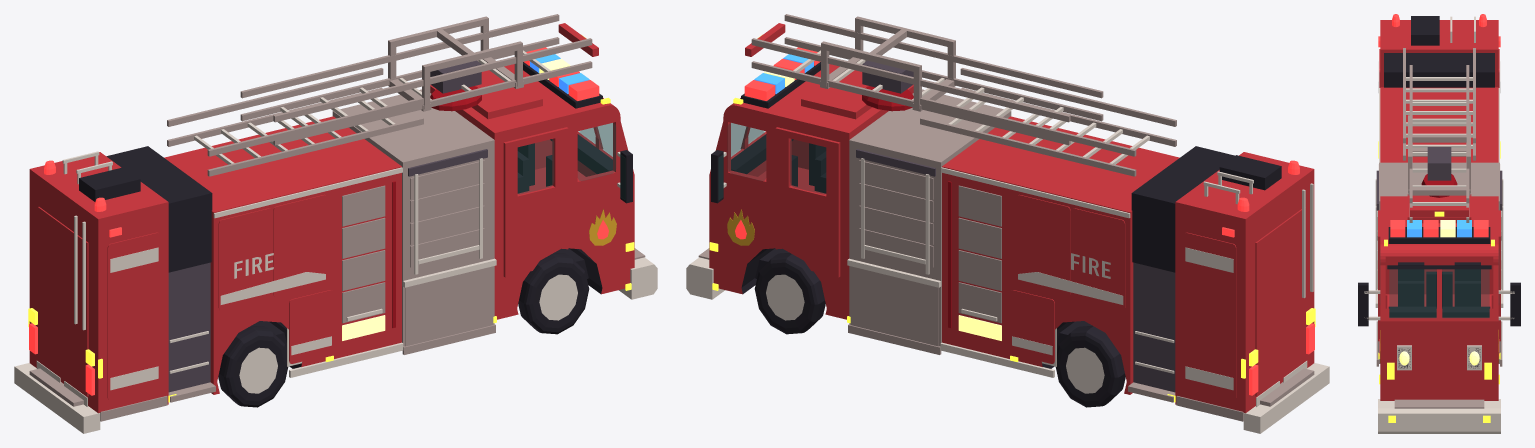
3 renders of one model, left to right at view 1: azimuth 30°, elevation 25°; view 2: azimuth 150°, elevation 25°; view 3: azimuth 270°, elevation 25°, orthographic. The views are drawn at different scales.
Parts seen in each view (by area): view 1: equipment_body_pal_survivorRed, rear_compartment_pal_survivorRed, shutter_housing_pal_sidewalk, ladder_pal_sidewalk, crew_cab_pal_survivorRed, doorL_pal_survivorRed, pump_bay_pal_uiDark, equipment_body_pal_sidewalk, pump_bay_pal_asphalt, equipment_body_pal_picketWhite, crew_cab_pal_uiDark, wheelRL_pal_uiDark (+17 smaller); view 2: equipment_body_pal_survivorRed, rear_compartment_pal_survivorRed, shutter_housing_pal_sidewalk, ladder_pal_sidewalk, crew_cab_pal_survivorRed, doorR_pal_survivorRed, pump_bay_pal_uiDark, equipment_body_pal_sidewalk, pump_bay_pal_asphalt, equipment_body_pal_picketWhite, crew_cab_pal_uiDark, rear_compartment_pal_picketWhite (+16 smaller); view 3: crew_cab_pal_survivorRed, crew_cab_pal_uiDark, equipment_body_pal_survivorRed, crew_cab_pal_backpackTeal, rear_compartment_pal_survivorRed, body_pal_picketWhite, pump_bay_pal_uiDark, ladder_pal_sidewalk, shutter_housing_pal_sidewalk, ladder_pal_picketWhite, body_pal_sidewalk, rear_compartment_pal_uiDark (+18 smaller).
Boxes of the visible parts, x1,y1,x2,y2 form: equipment_body_pal_survivorRed: (164,116,401,394); rear_compartment_pal_survivorRed: (29,152,168,413); shutter_housing_pal_sidewalk: (332,89,495,354); ladder_pal_sidewalk: (167,14,592,176); crew_cab_pal_survivorRed: (430,64,634,319); doorL_pal_survivorRed: (503,127,568,277); pump_bay_pal_uiDark: (106,146,212,272); equipment_body_pal_sidewalk: (342,185,385,323); pump_bay_pal_asphalt: (168,262,210,392); equipment_body_pal_picketWhite: (213,167,403,377); crew_cab_pal_uiDark: (517,62,632,203); wheelRL_pal_uiDark: (218,325,288,407); equipment_body_pal_survivorRed: (942,116,1179,394); rear_compartment_pal_survivorRed: (1175,152,1314,413); shutter_housing_pal_sidewalk: (848,89,1011,354); ladder_pal_sidewalk: (751,14,1176,176); crew_cab_pal_survivorRed: (709,64,913,319); doorR_pal_survivorRed: (775,127,840,277); pump_bay_pal_uiDark: (1131,146,1234,272); equipment_body_pal_sidewalk: (958,185,1001,323); pump_bay_pal_asphalt: (1133,262,1175,392); equipment_body_pal_picketWhite: (940,167,1130,377); crew_cab_pal_uiDark: (711,62,826,203); rear_compartment_pal_picketWhite: (1185,171,1313,406); crew_cab_pal_survivorRed: (1380,194,1498,400); crew_cab_pal_uiDark: (1358,227,1520,368); equipment_body_pal_survivorRed: (1380,87,1498,162); crew_cab_pal_backpackTeal: (1389,269,1489,317); rear_compartment_pal_survivorRed: (1379,20,1499,87); body_pal_picketWhite: (1378,399,1500,433); pump_bay_pal_uiDark: (1384,53,1494,87); ladder_pal_sidewalk: (1403,48,1475,222); shutter_housing_pal_sidewalk: (1376,162,1502,366); ladder_pal_picketWhite: (1406,77,1472,205); body_pal_sidewalk: (1394,399,1484,408); rear_compartment_pal_uiDark: (1411,16,1439,45).
Size of the model in its own units: 7.38 by 3.52 by 2.1.
